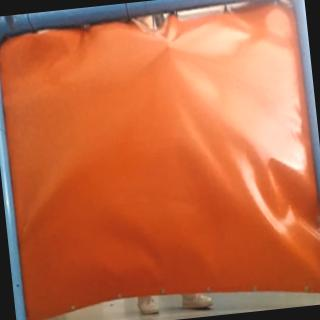Hit-hRxx: (162, 36, 180, 56)
